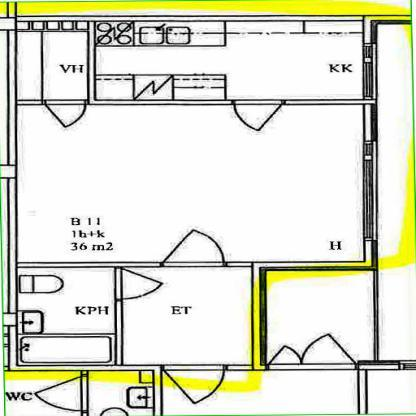door: (263, 330, 360, 375), (155, 363, 233, 408), (154, 228, 231, 269), (225, 96, 292, 134), (104, 268, 166, 304), (36, 98, 93, 130)
window: (349, 139, 392, 247), (351, 39, 384, 102)
